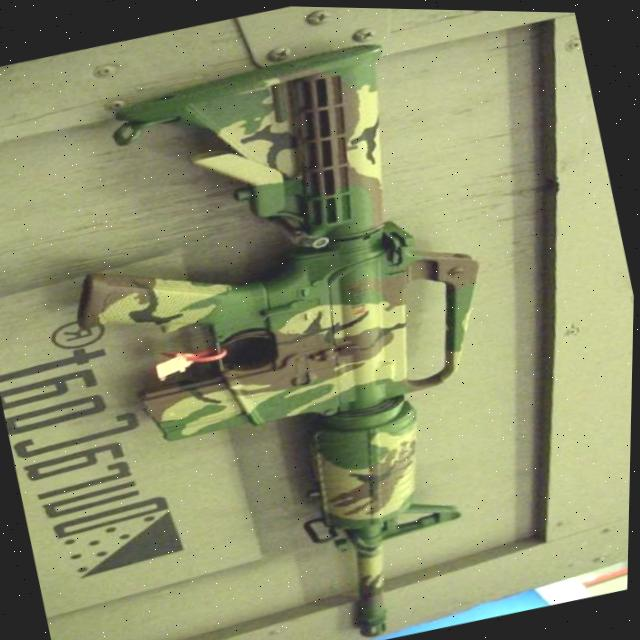firearm: (31, 17, 563, 640)
